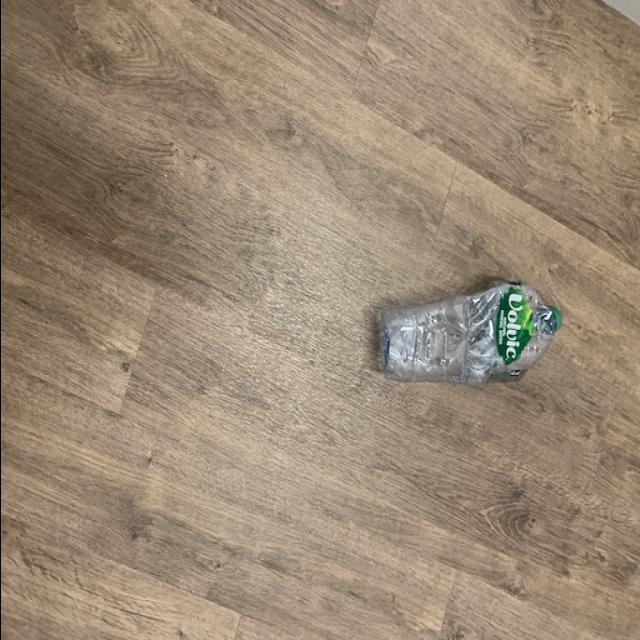PET: (372, 278, 562, 388)
